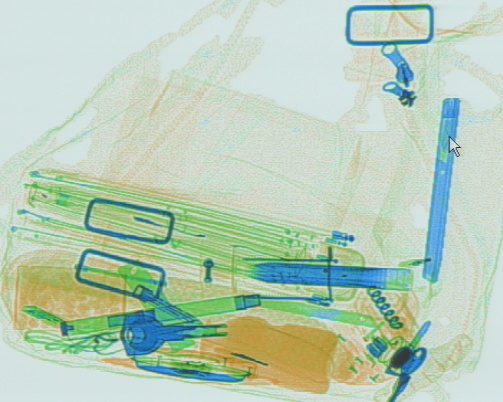knife: (114, 256, 196, 353), (251, 292, 375, 329)
